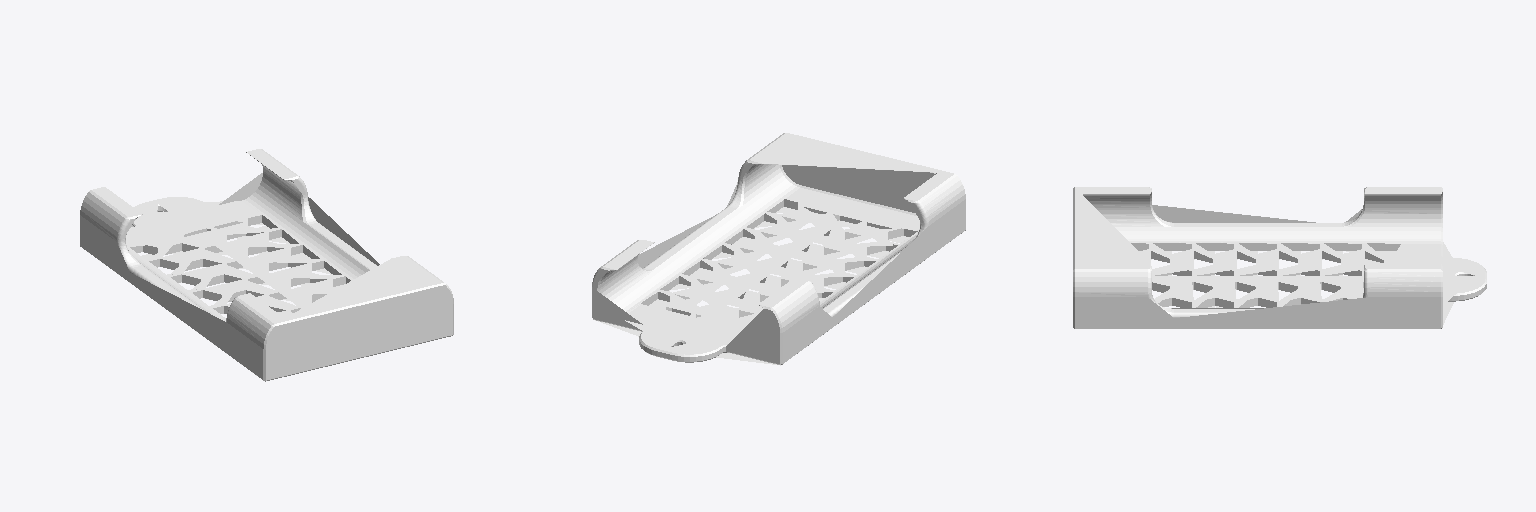
Rendered from gns_holder_moi.obj.
3 renders of one model, left to right at view 1: azimuth 30°, elevation 25°; view 2: azimuth 150°, elevation 25°; view 3: azimuth 270°, elevation 25°, orthographic.
Visible parts, largest first — view 1: Open_CASCADE_STEP_translator_7.6_2; view 2: Open_CASCADE_STEP_translator_7.6_2; view 3: Open_CASCADE_STEP_translator_7.6_2.
Boxes of the visible parts, box(x1,y1,x2,y2) form: Open_CASCADE_STEP_translator_7.6_2: box(80, 149, 453, 381); Open_CASCADE_STEP_translator_7.6_2: box(592, 133, 965, 365); Open_CASCADE_STEP_translator_7.6_2: box(1073, 187, 1486, 328).
Size of the model in its own units: 49.75 by 13.83 by 93.75.